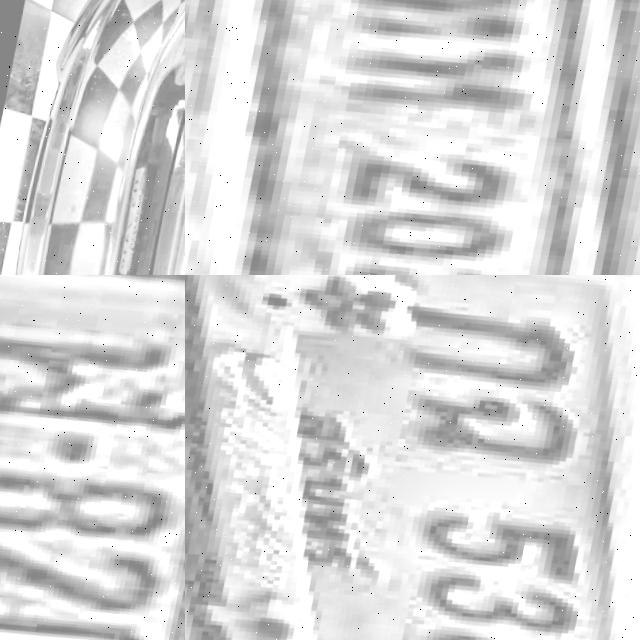license-plate: (185, 275, 640, 640), (185, 0, 640, 275), (0, 275, 185, 640)
